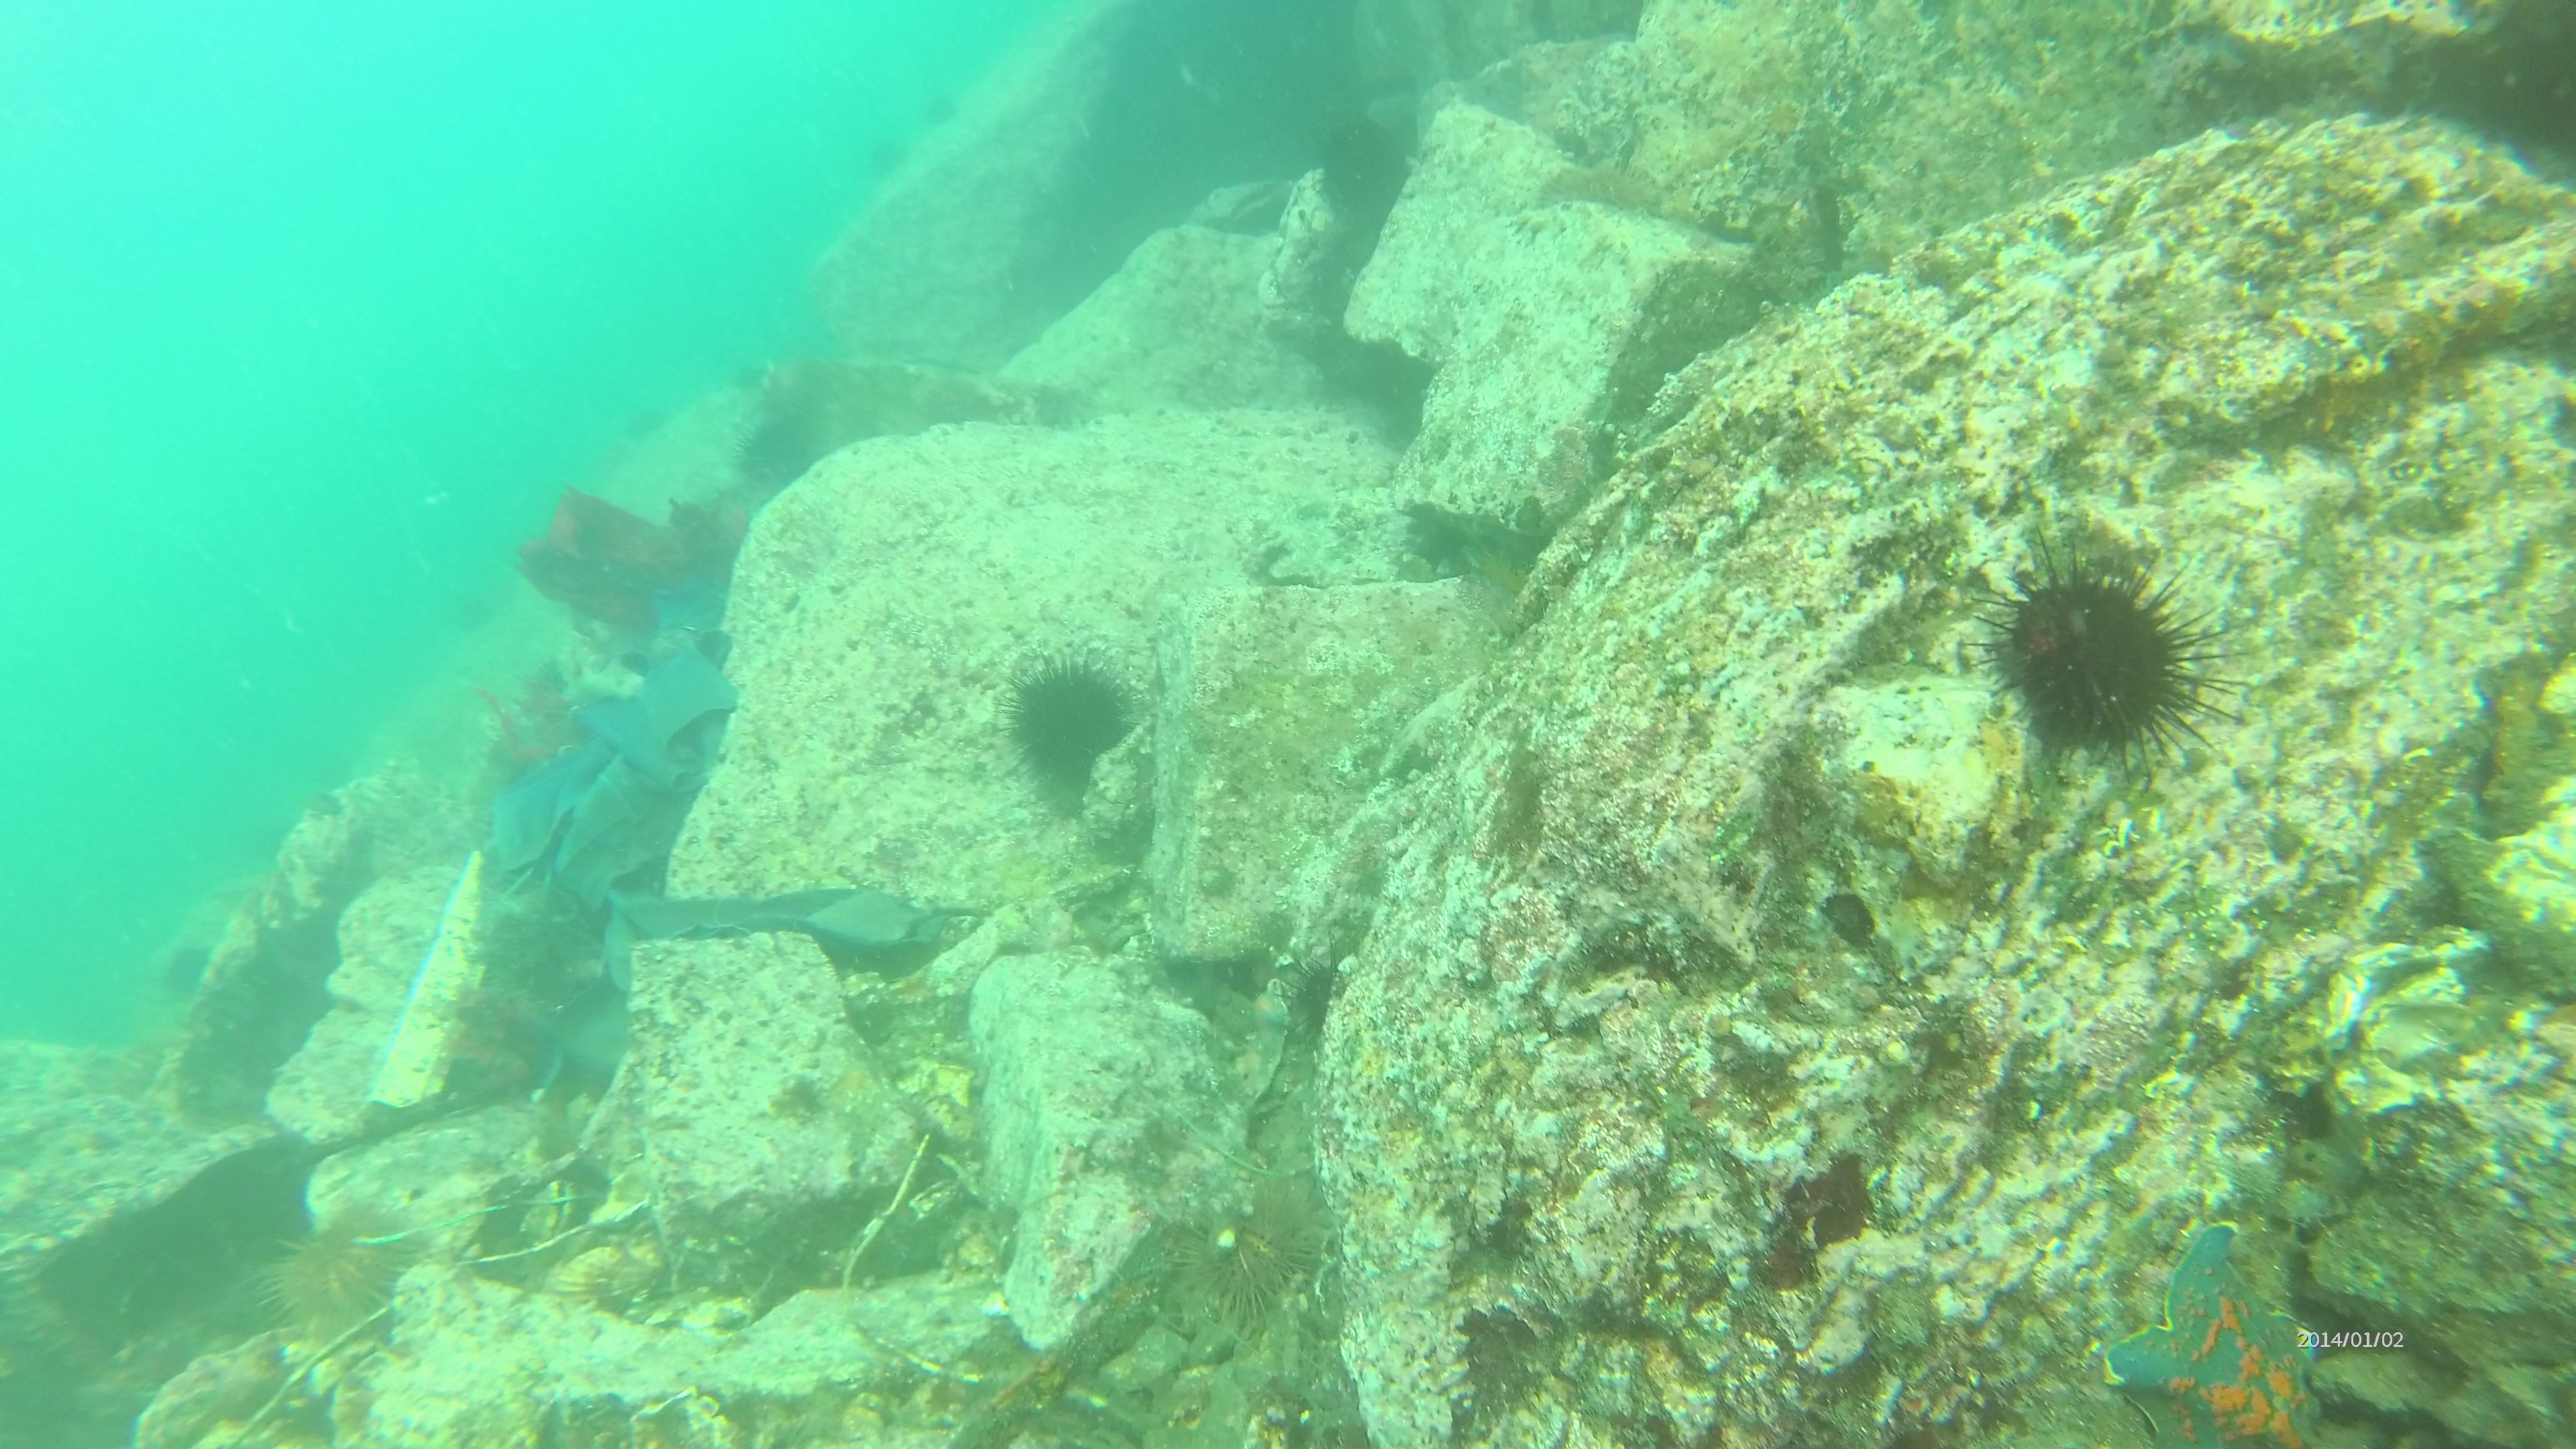echinus: (1978, 525, 2213, 770), (1184, 1185, 1316, 1332), (993, 655, 1136, 782), (264, 1212, 396, 1341), (720, 416, 814, 487), (140, 931, 214, 1005), (918, 87, 975, 133), (862, 136, 918, 182), (617, 403, 674, 449), (584, 439, 640, 483)
scallop: (557, 1240, 667, 1322)
starfish: (2084, 1212, 2337, 1449)
